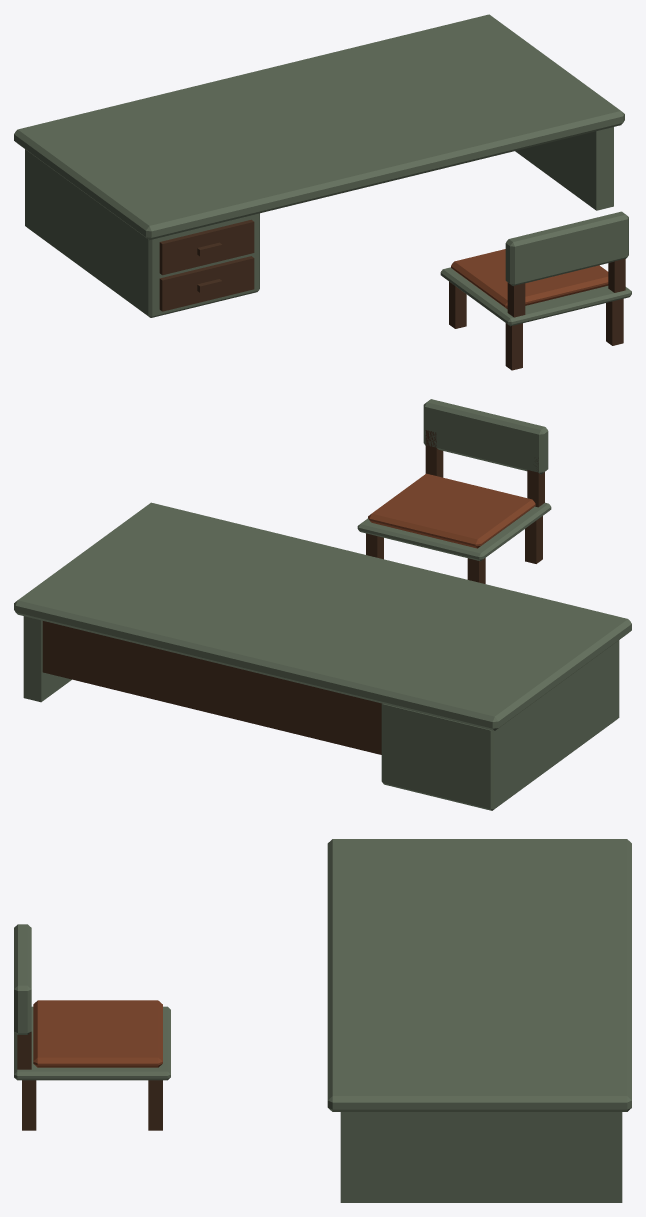
3 views of the same model, one above another, from view 1: azimuth 30°, elevation 25°; view 2: azimuth 150°, elevation 25°; view 3: azimuth 270°, elevation 25° (orthographic). The views are drawn at different scales.
Visible parts, largest first — view 1: furniture_1_desk; view 2: furniture_1_desk; view 3: furniture_1_desk.
Part boxes in pixels (<box>): furniture_1_desk: <box>14,14,631,370</box>; furniture_1_desk: <box>14,399,631,810</box>; furniture_1_desk: <box>14,839,631,1202</box>.
Bounding box in the file's own units: 3.86 × 1 × 3.86.
